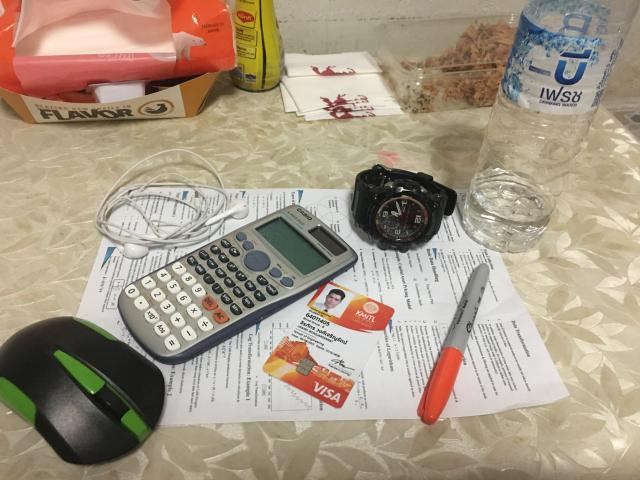Mouse: (0, 316, 165, 464)
Pen: (418, 264, 490, 424)
Watch: (351, 164, 458, 252)
bottle: (464, 0, 639, 252)
paper: (40, 186, 571, 427)
wire: (95, 149, 249, 259)
